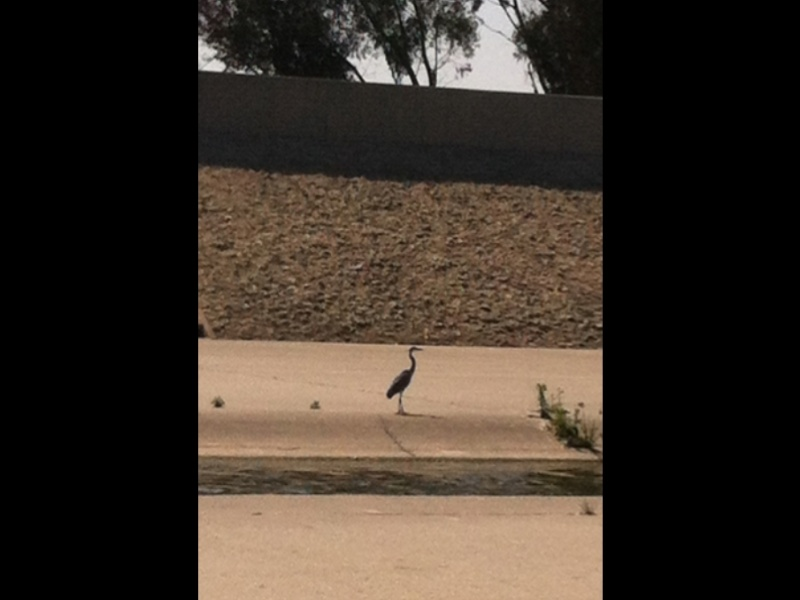heron: (387, 344, 424, 417)
